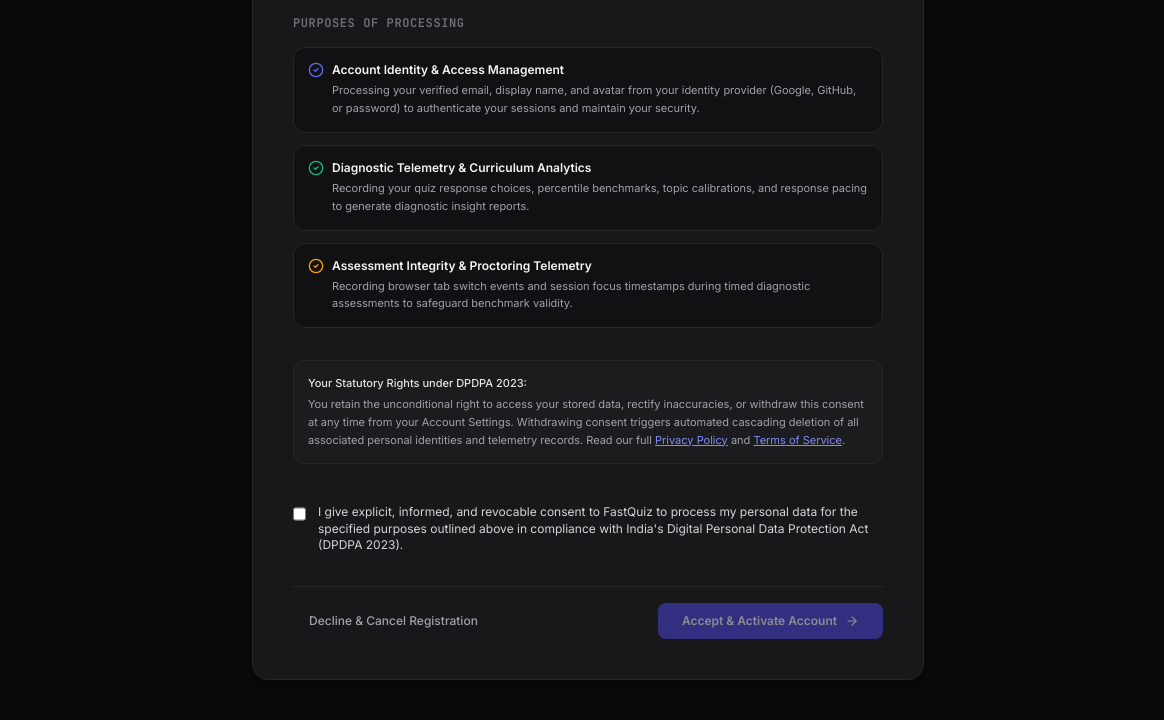
Test: ConsentPage Component › accepts consent when box is checked and navigates to target
(page scrolled)
Click the checkbox at x=300, y=514, box [293, 506, 306, 522]
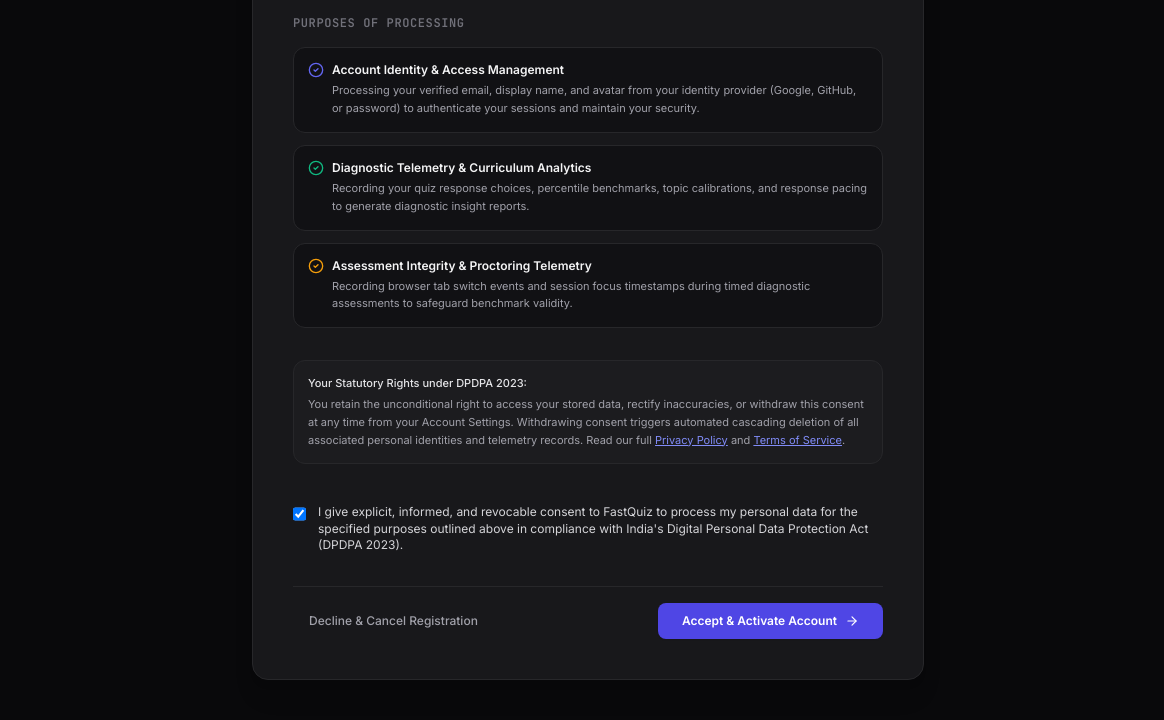
Click the button "Accept & Activate Account" at x=770, y=621, box [658, 603, 883, 639]
(page scrolled)
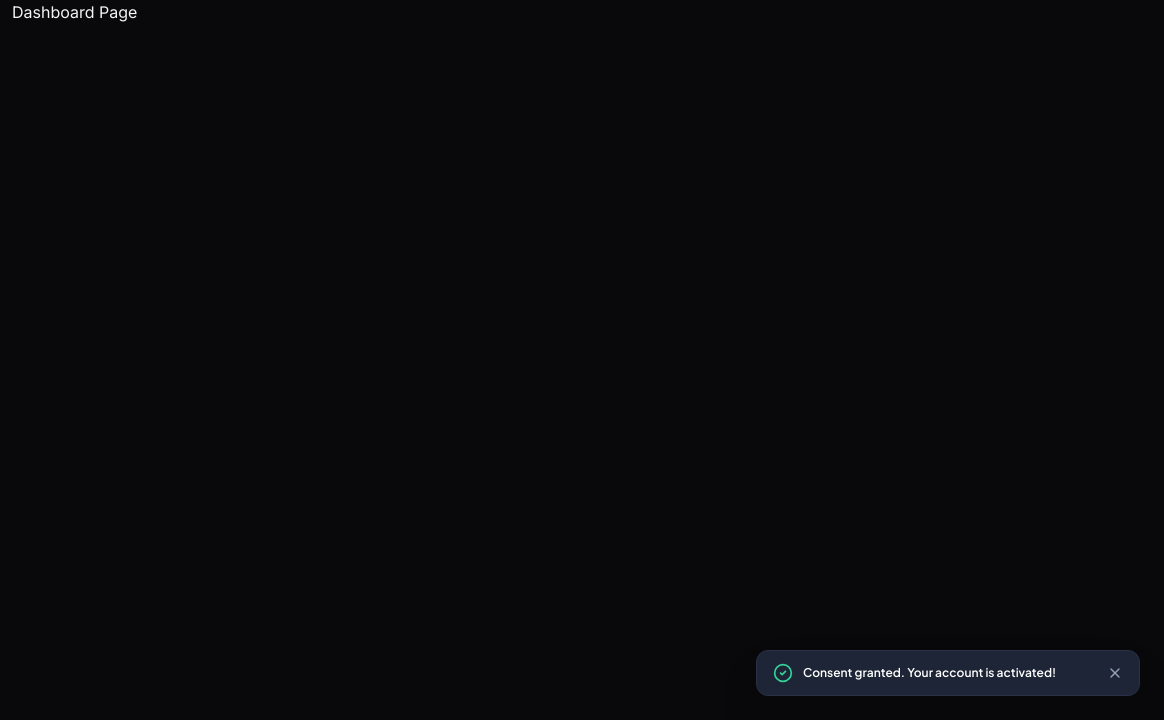
expect the text "Consent granted. Your account is activated!" is shown: met, box [803, 665, 1056, 681]
